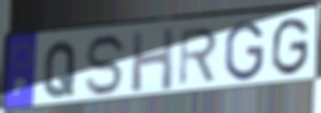G: (269, 15, 312, 79), (223, 20, 265, 83)
H: (130, 25, 176, 95)
Q: (42, 39, 79, 100)
R: (177, 25, 220, 88)
S: (84, 32, 130, 99)
